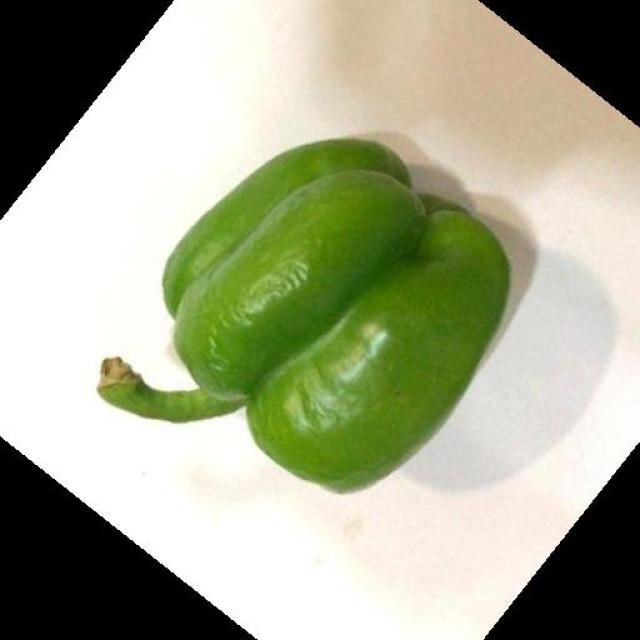Fresh_Capsicum: (138, 159, 482, 493)
